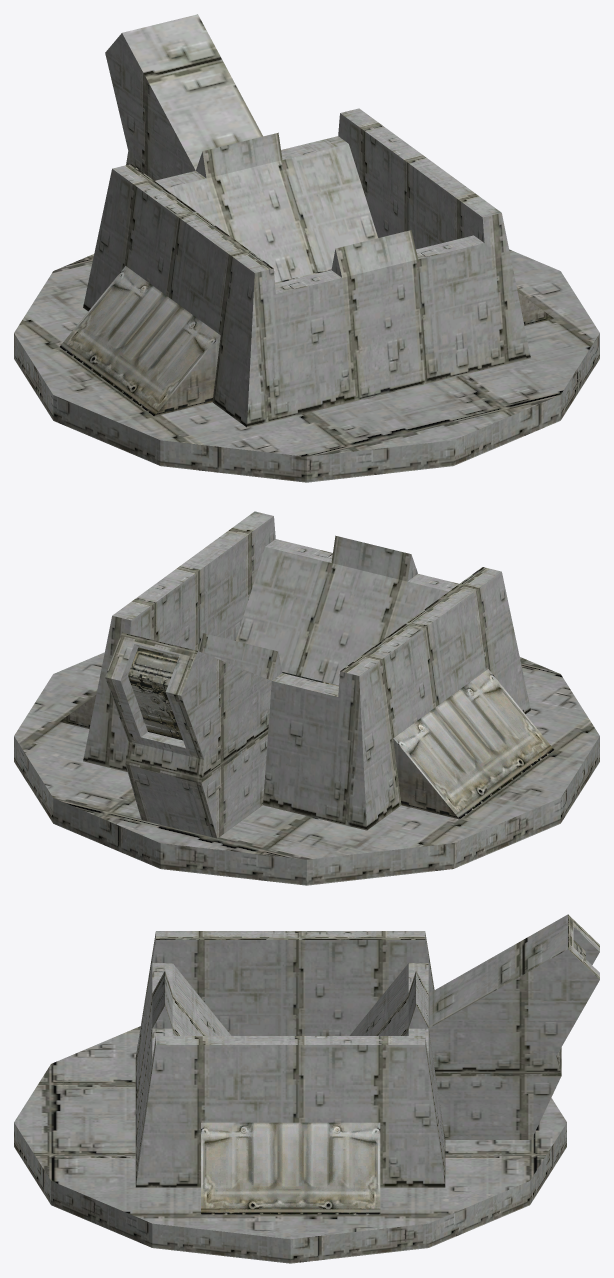
File: ins_all_def_turret_lg_s03_turret_l0.fbx
3 views of the same model, one above another, from view 1: azimuth 30°, elevation 25°; view 2: azimuth 150°, elevation 25°; view 3: azimuth 270°, elevation 25° (orthographic). The views are drawn at different scales.
Visible parts, largest first — view 1: mesh_node; view 2: mesh_node; view 3: mesh_node.
Part boxes in pixels (x1,y1,x2,y2): mesh_node: [14, 14, 599, 482]; mesh_node: [14, 511, 599, 885]; mesh_node: [14, 914, 599, 1263].
Size of the model in its own units: 2.74 by 1.17 by 2.9.
